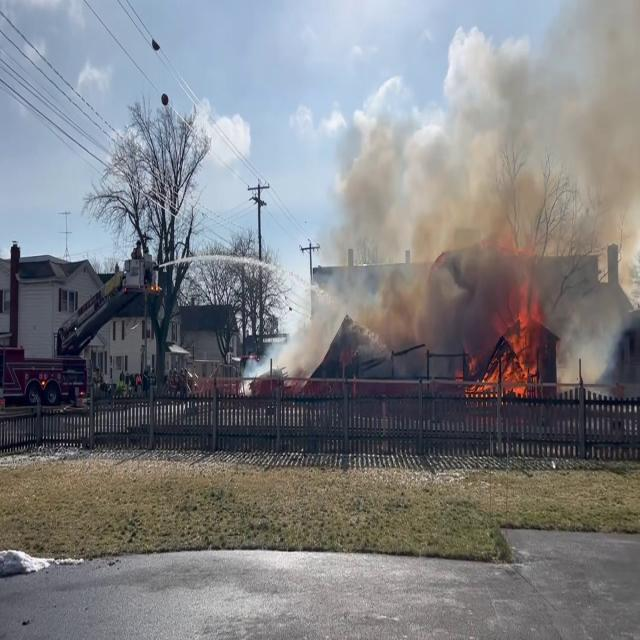Fire: (466, 270, 546, 404)
Smoke: (253, 18, 640, 382)
